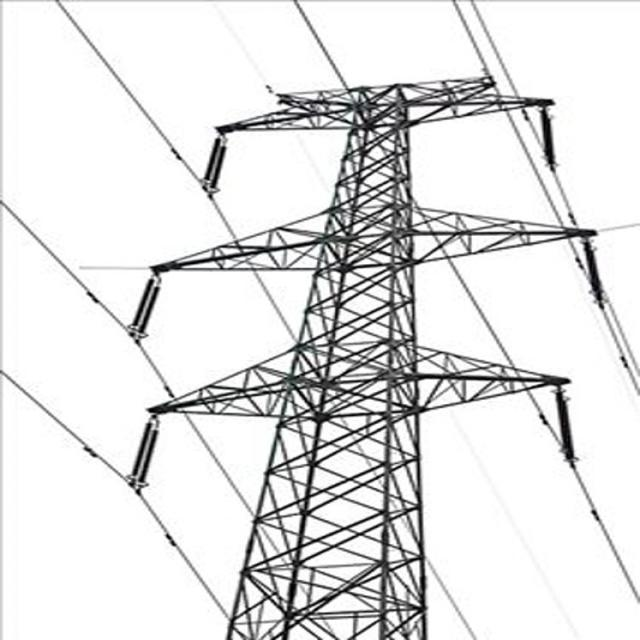non-critical vegetation: (110, 76, 600, 634)
